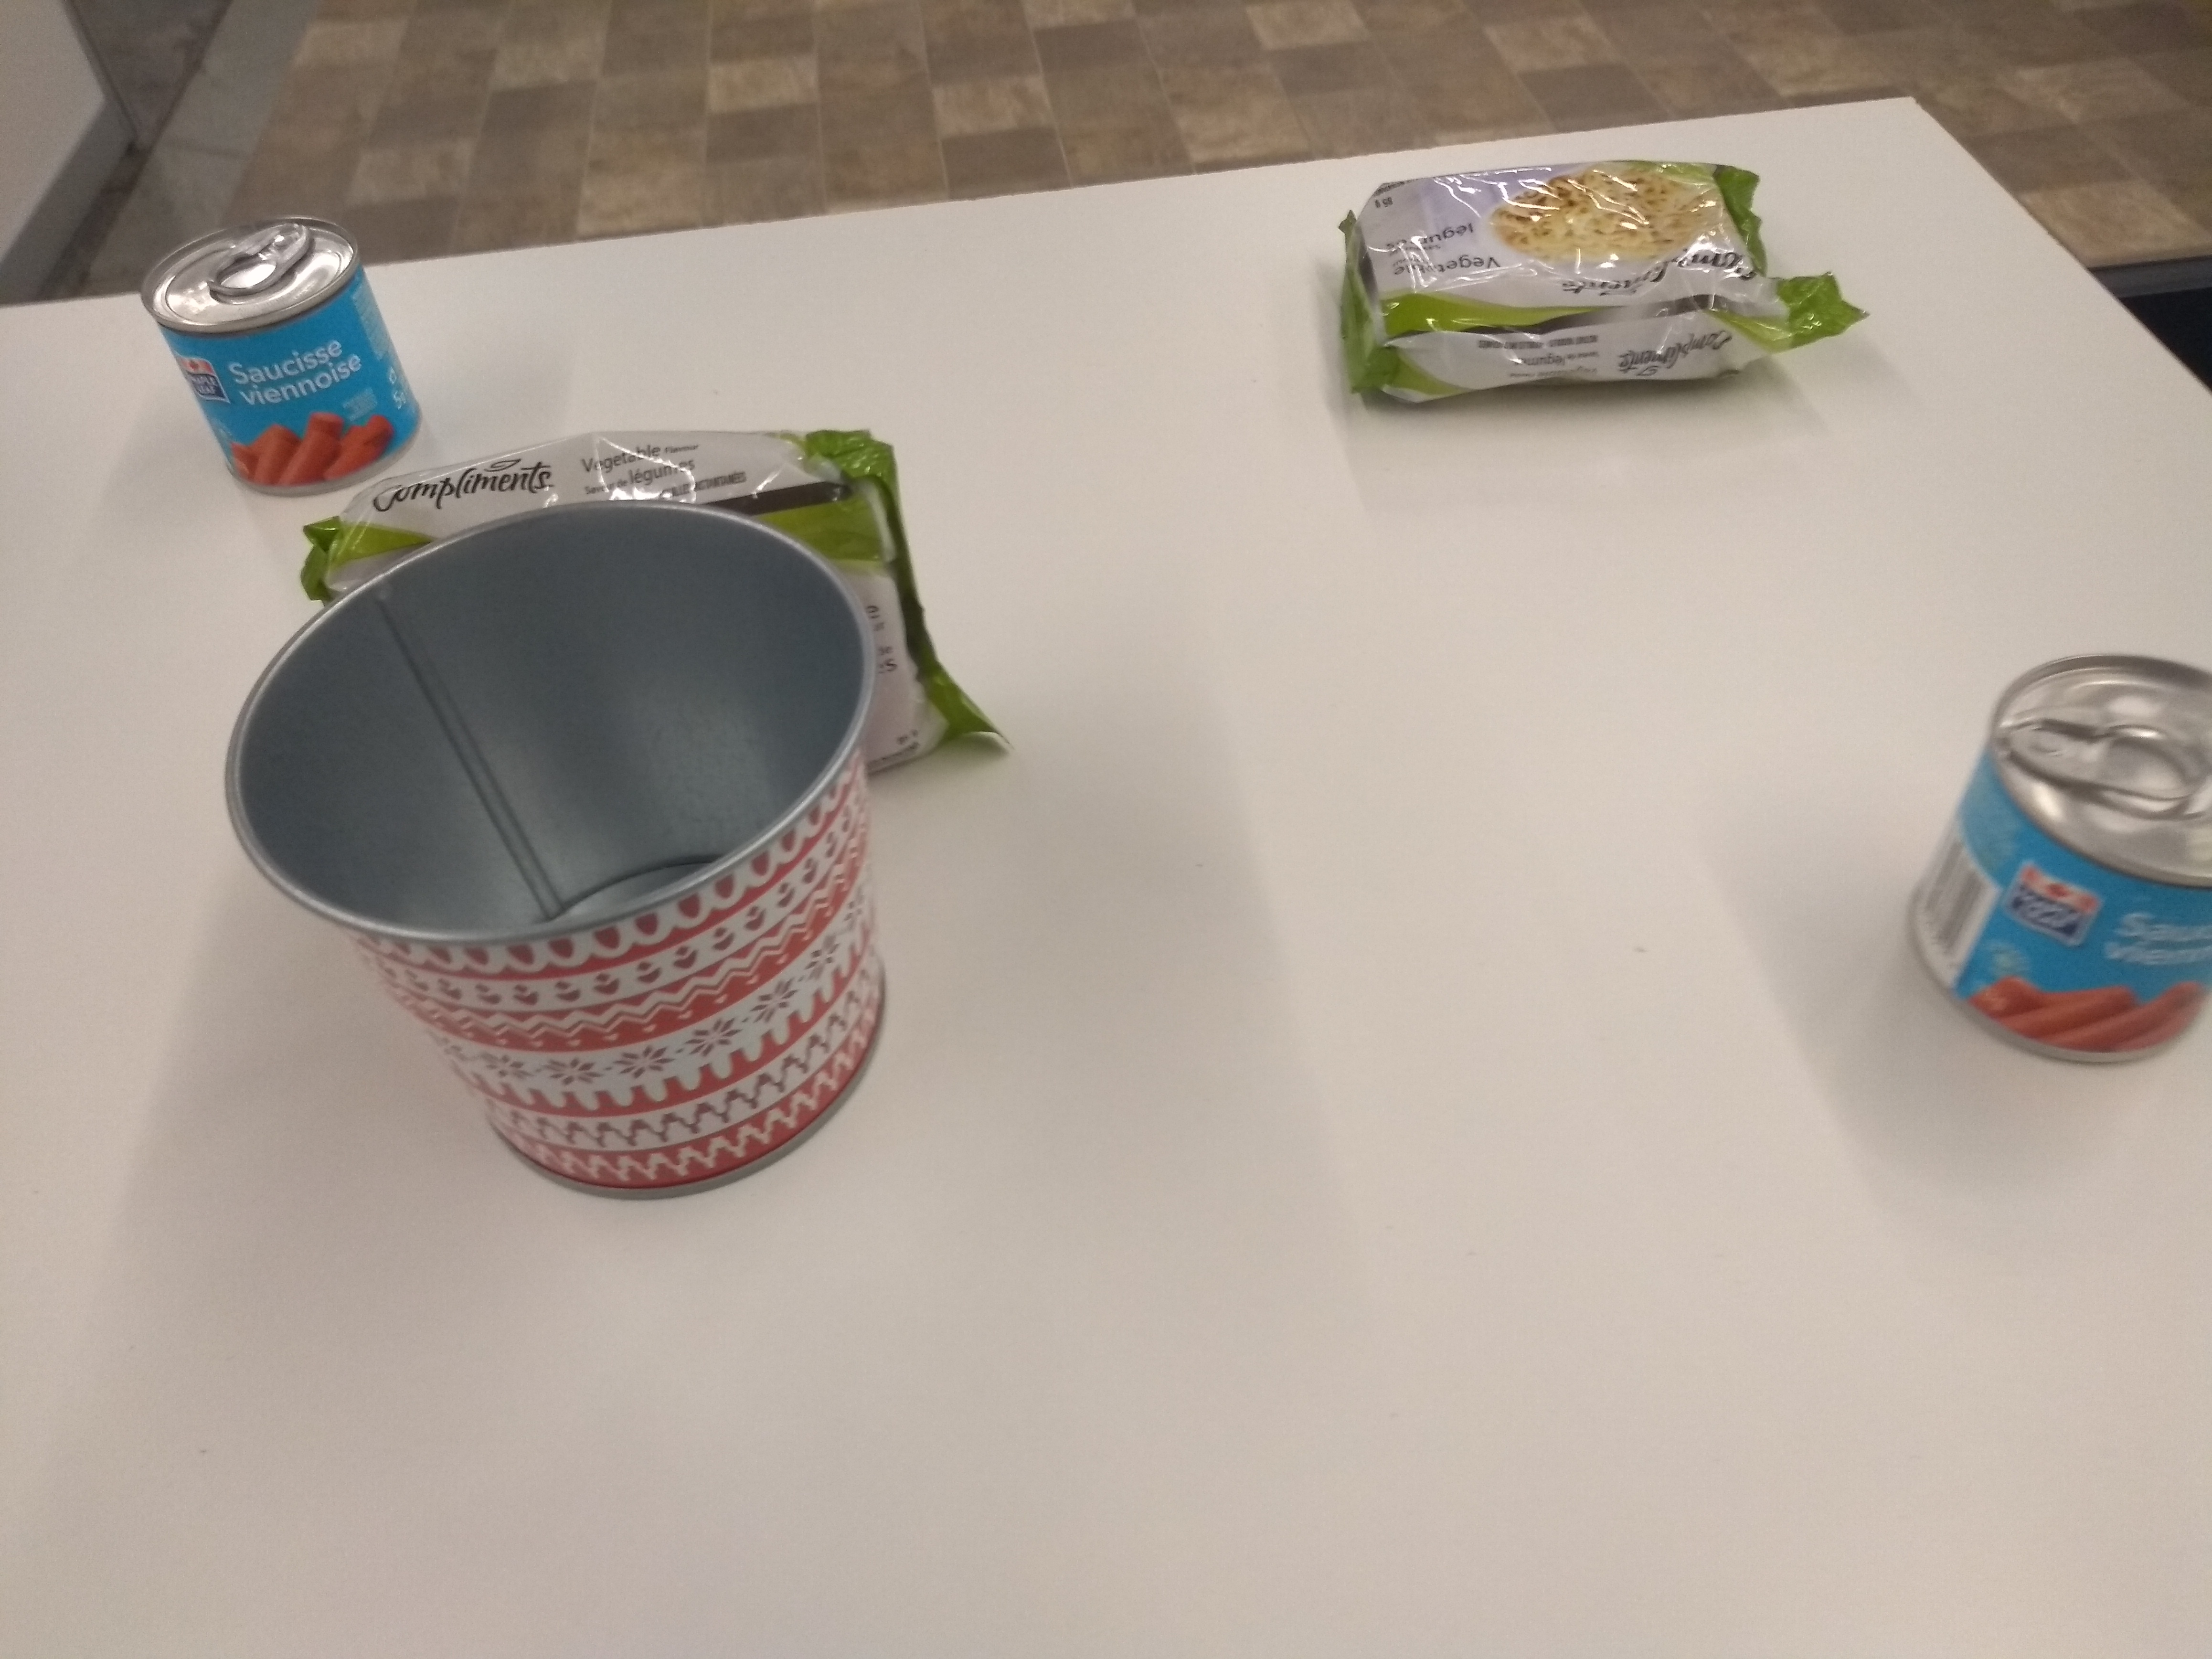noodles: (1325, 148, 1878, 425)
sausages: (136, 211, 437, 511)
